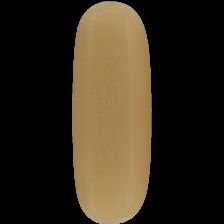65162-750: (0, 0, 224, 224)
